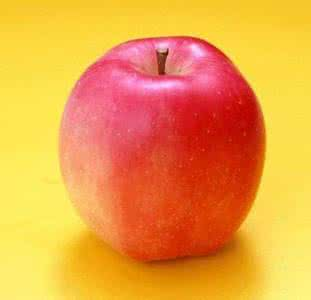apple: (65, 31, 266, 260)
